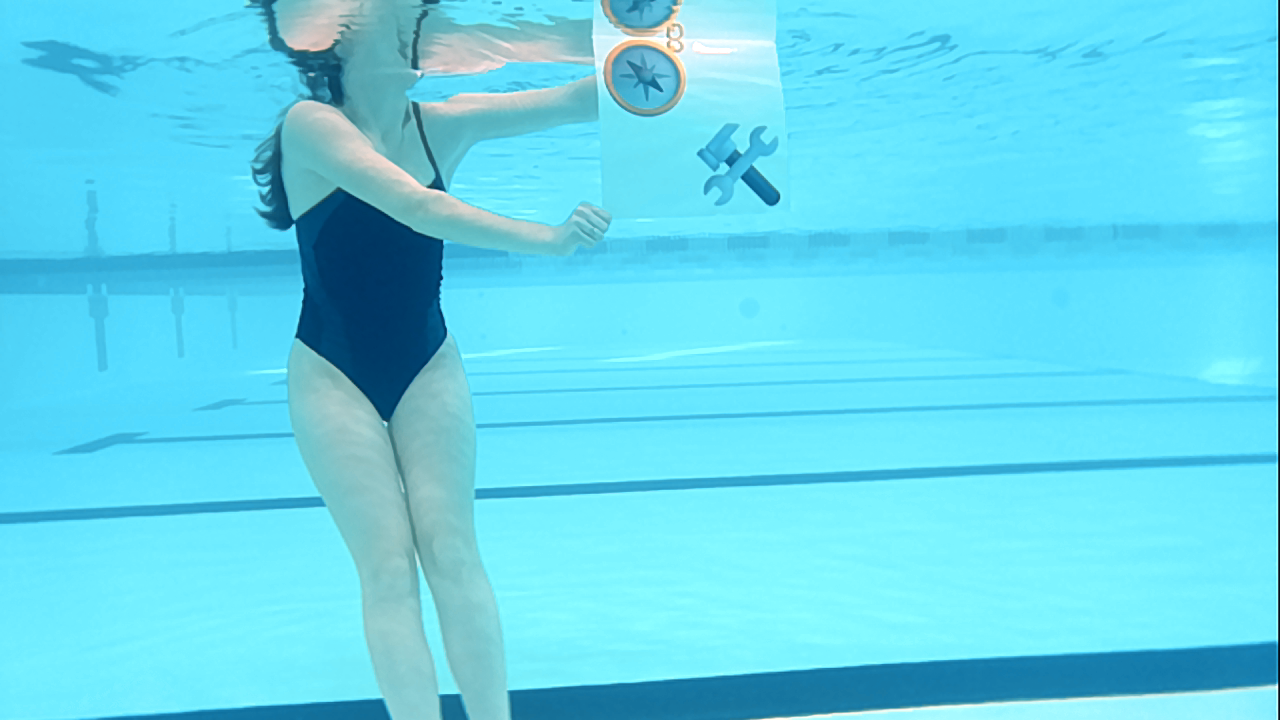compass_hammer: (602, 38, 788, 209)
